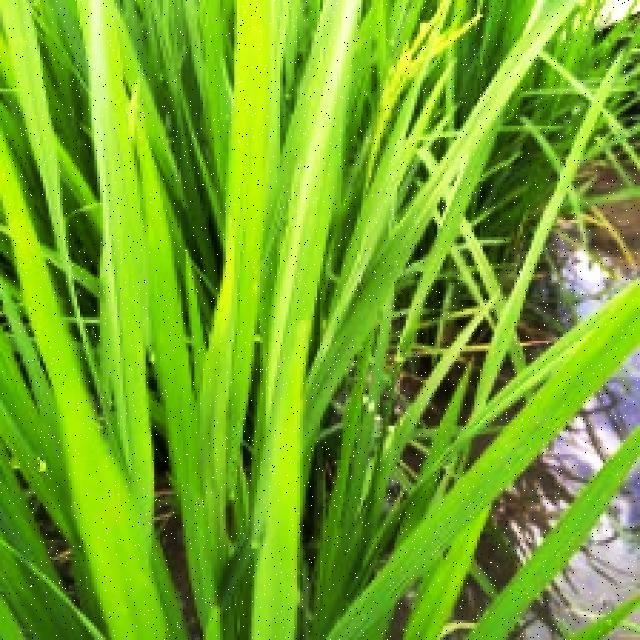health: (0, 0, 480, 614)
